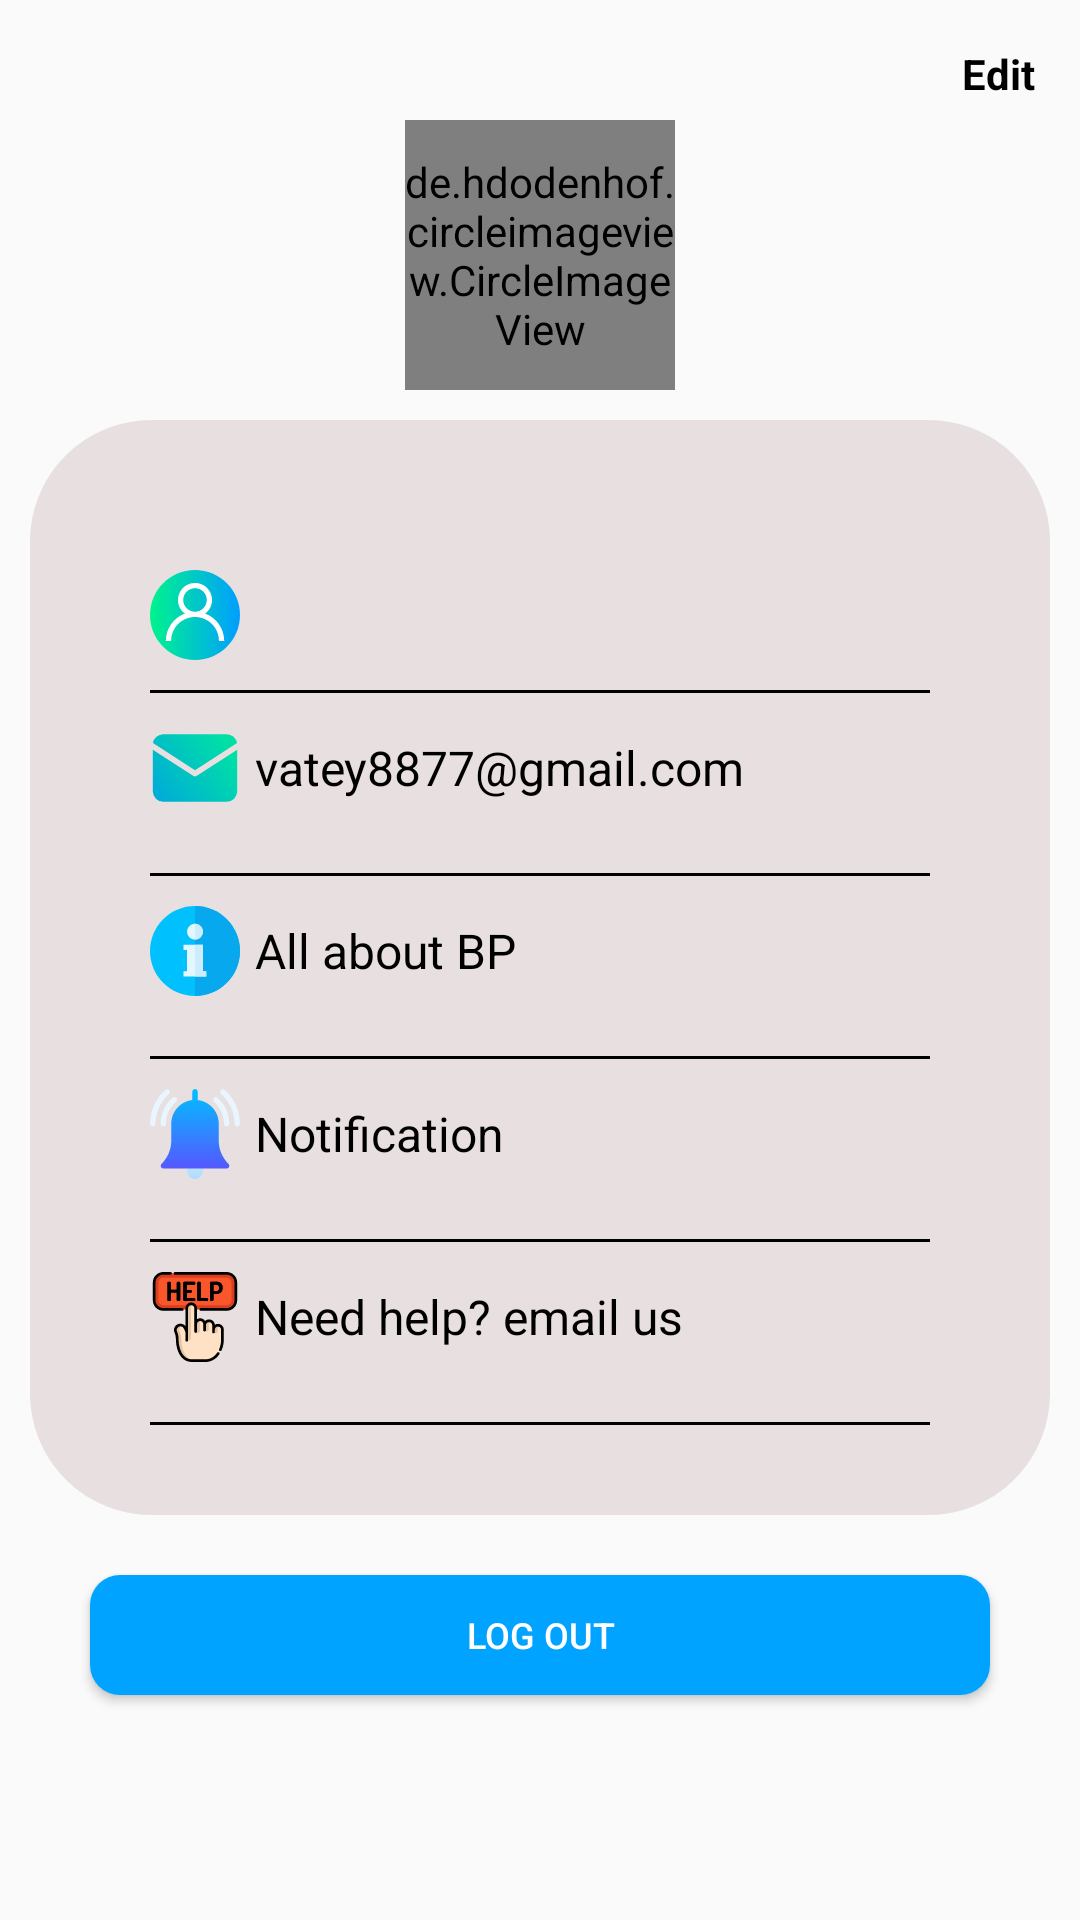

Locate icon controls on the screen. Image size 1080×1920, boxes as (x1, y1, x2, y2).
bell ring: (151, 1089, 239, 1179)
email: (152, 734, 238, 802)
info: (150, 906, 240, 996)
user: (150, 570, 240, 660)
